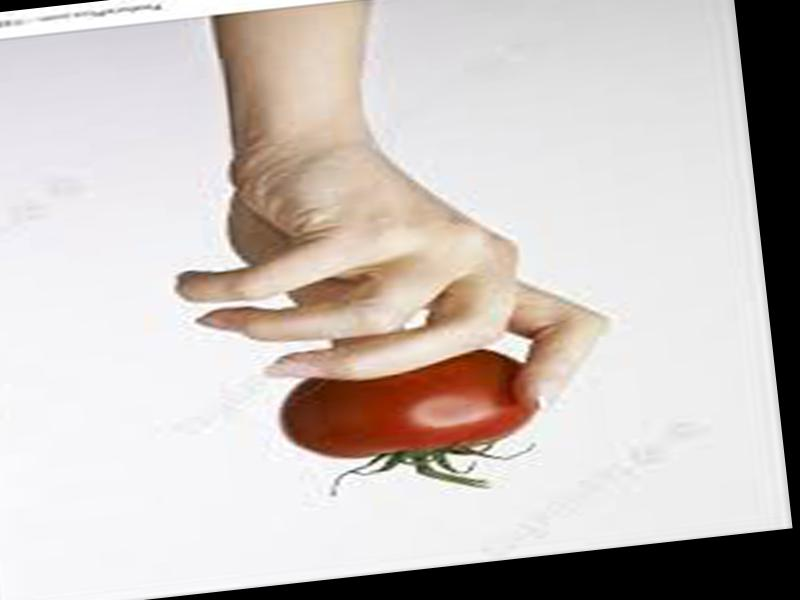Tomato: (278, 346, 543, 507)
